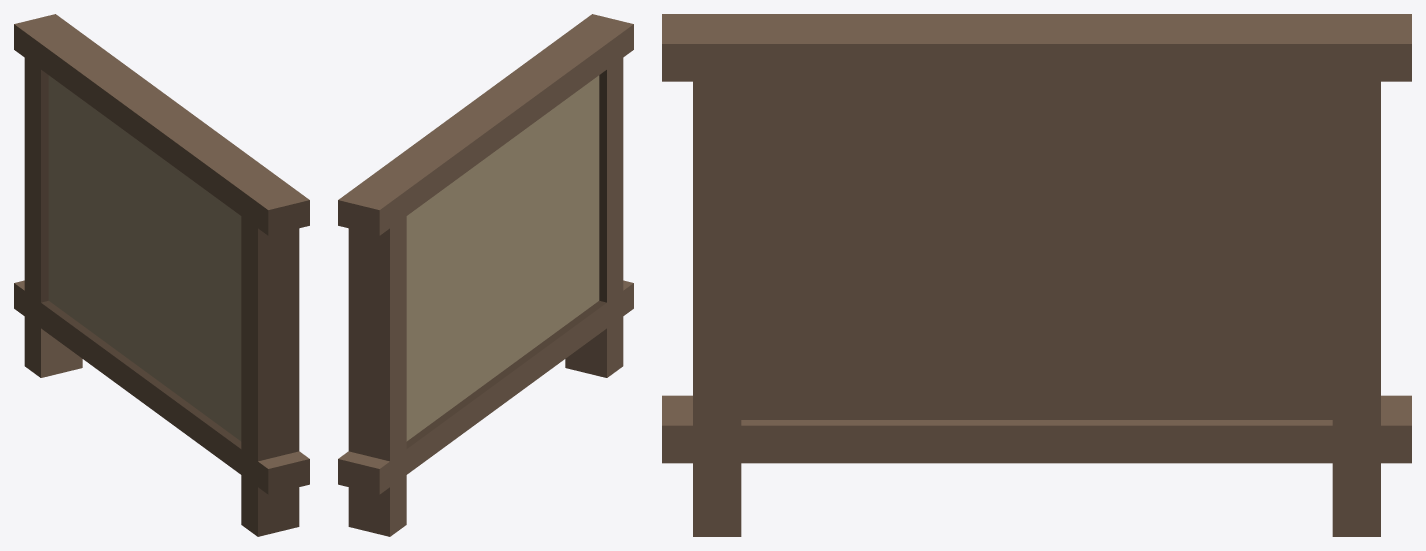
The model's file is wanted_poster_board.fbx.
3 views of the same model, side by side, from view 1: azimuth 30°, elevation 25°; view 2: azimuth 150°, elevation 25°; view 3: azimuth 270°, elevation 25° (orthographic). The views are drawn at different scales.
Visible parts, largest first — view 1: wanted_poster_board; view 2: wanted_poster_board; view 3: wanted_poster_board.
Part boxes in pixels (x1,y1,x2,y2): wanted_poster_board: (14,14,309,536); wanted_poster_board: (338,14,633,536); wanted_poster_board: (662,14,1411,536).
Size of the model in its own units: 0.2937 by 3.11 by 2.26.
